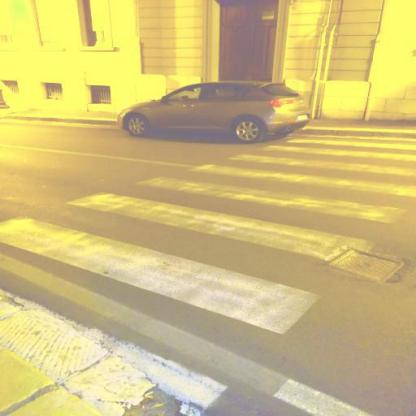crosswalk: (58, 169, 411, 269)
